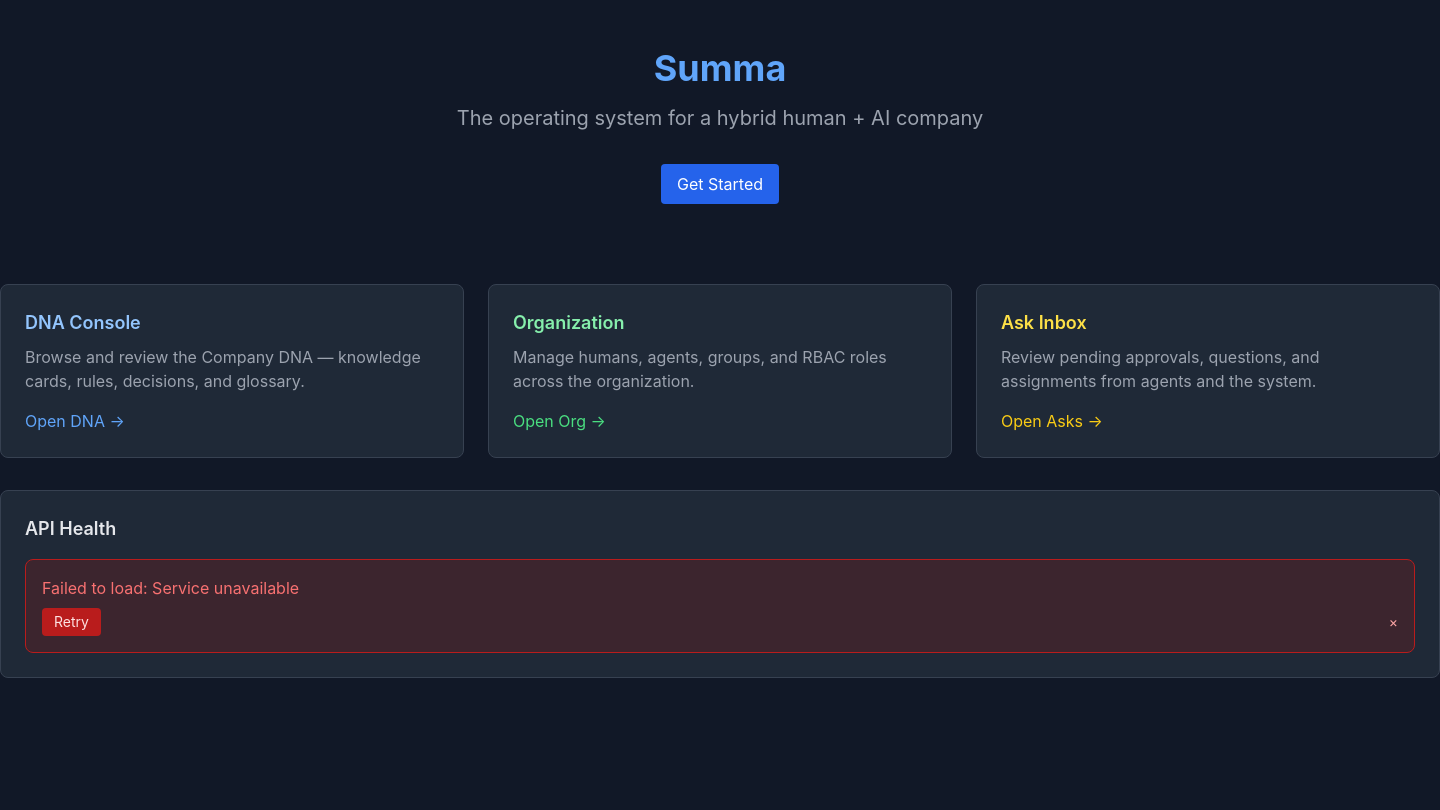
Scenario: Home page › recovers to running state when Retry succeeds after a health-check failure
Click the button with aria-label "Retry loading" at (71, 622), box [42,608,101,636]
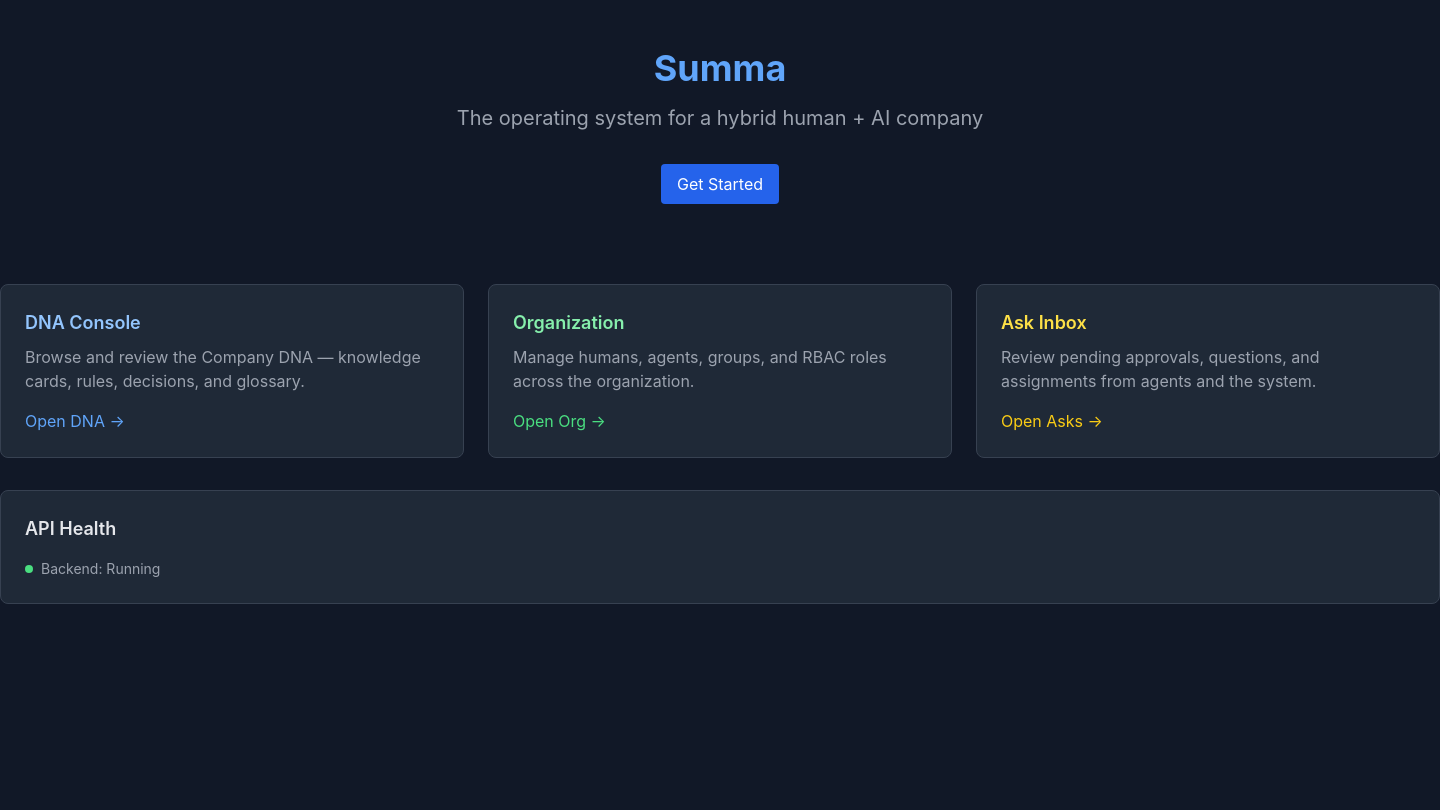
Expected: the text "Backend: Running" is shown, [41,559,160,579]
Expected: the text "Service unavailable" is gone
